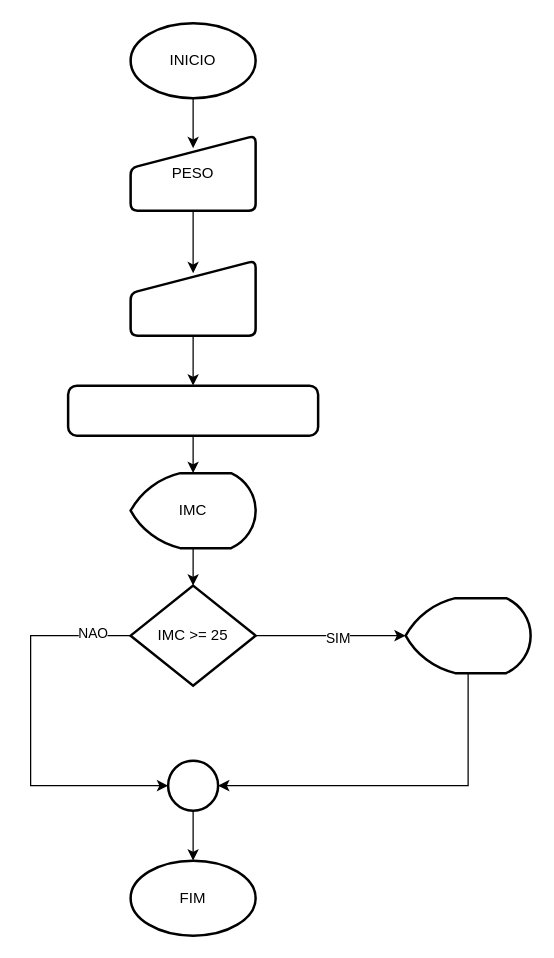
Image size: 554x958. Some labels were removed from this diagram. The shapes that lost their labels are listed below. From the top down, each one's centre as x and y in pixels, then its label:
point 192,297: ALTURA
point 192,410: IMC = PESO / (ALTURA * ALTURA)
point 467,635: ESTA ACIMA
